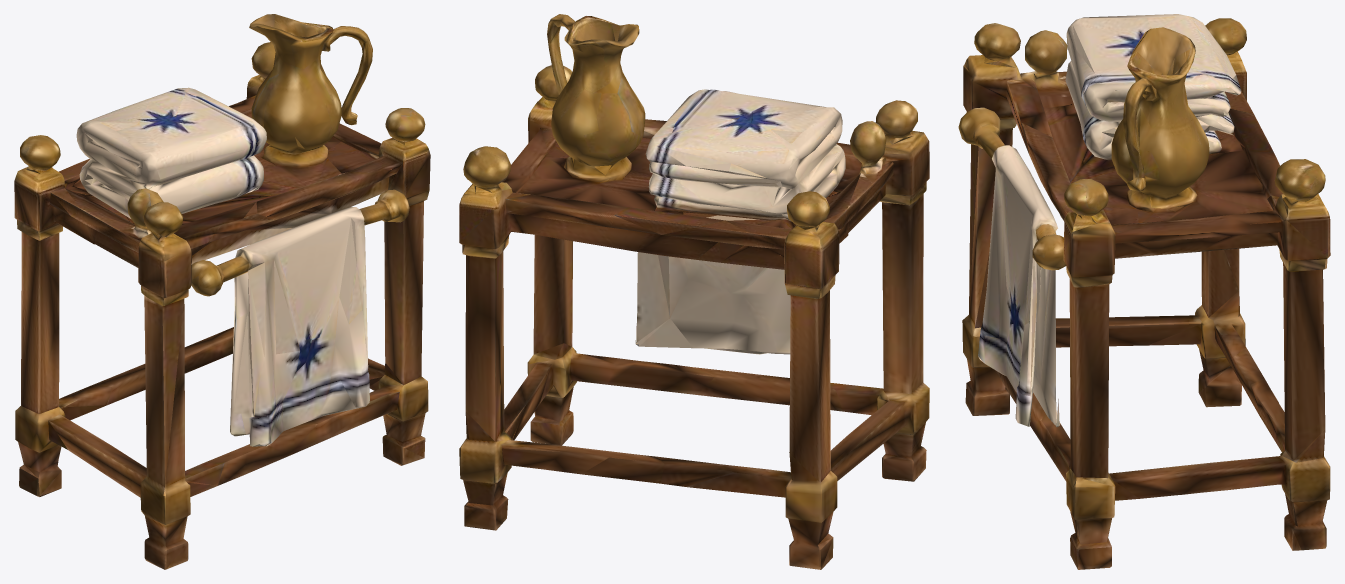
File: towel-stand.glb
The picture shows the model from 3 angles, left to right: view 1: azimuth 30°, elevation 25°; view 2: azimuth 150°, elevation 25°; view 3: azimuth 270°, elevation 25°; orthographic projection. The views are drawn at different scales.
Visible parts, largest first — view 1: towel-stand; view 2: towel-stand; view 3: towel-stand.
Boxes of the visible parts, <box> form: towel-stand: <box>14,14,430,569</box>; towel-stand: <box>459,14,929,569</box>; towel-stand: <box>958,14,1330,569</box>.
Size of the model in its own units: 1.91 by 2.33 by 1.65.
1 material, 1 textured.
